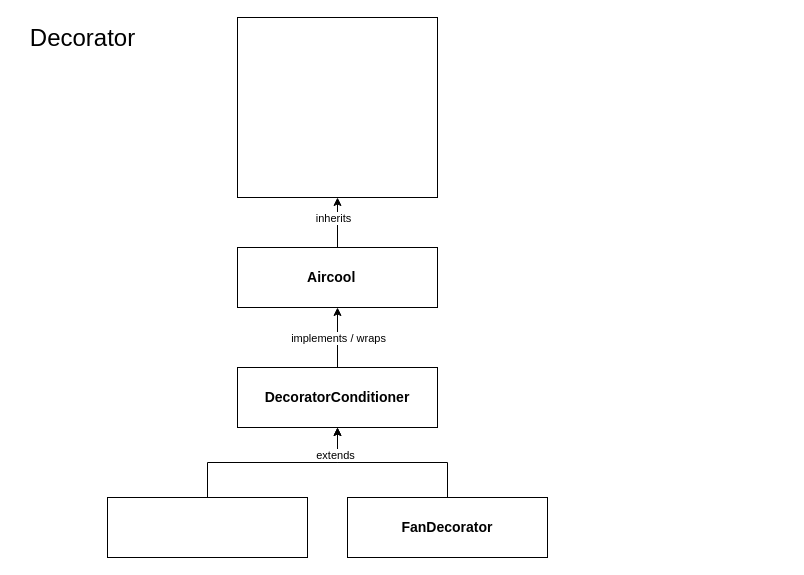
This 804x575 diagram has some shape labels left out. Here are the shapes that lost their labels. From the top down, the centre of each, then its label:
(x=337, y=107): Conditioner start(): bool stop(): bool name: str temp: int mode: str fan: str
(x=207, y=527): ModeDecorator
